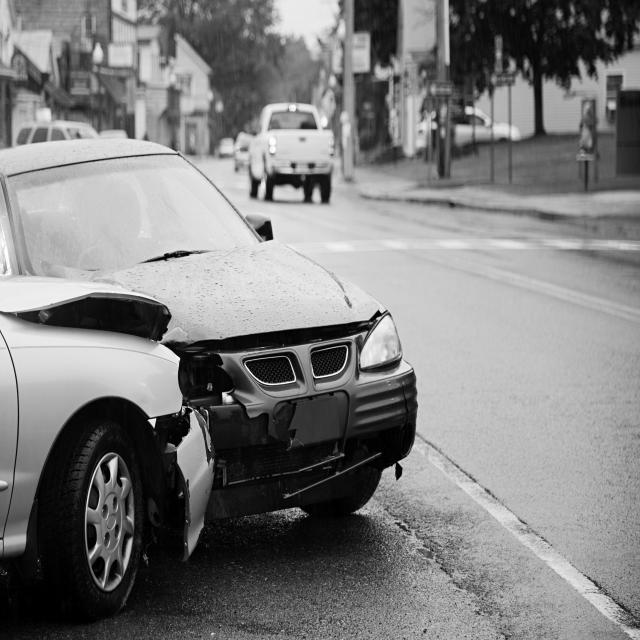crush: (41, 259, 345, 518), (0, 274, 216, 564)
